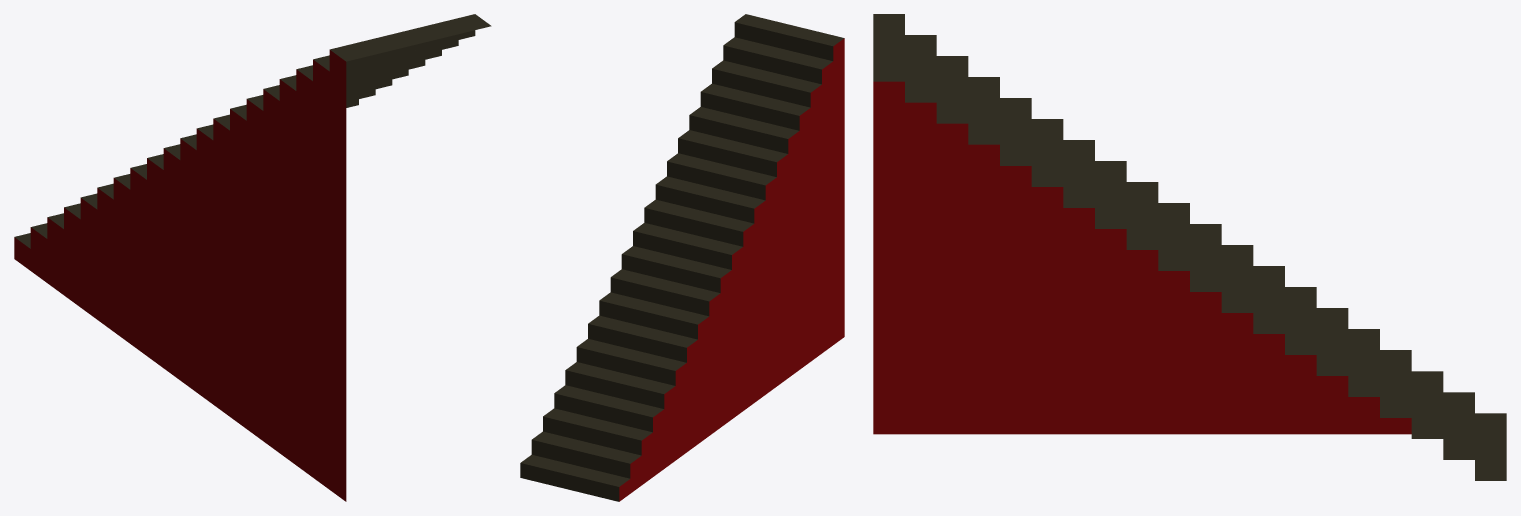
File: Stairs-Apartment_01.fbx
The picture shows the model from 3 angles, left to right: view 1: azimuth 30°, elevation 25°; view 2: azimuth 150°, elevation 25°; view 3: azimuth 270°, elevation 25°; orthographic projection. The views are drawn at different scales.
Parts seen in each view (by area): view 1: Stairs-Apartment_01; view 2: Stairs-Apartment_01; view 3: Stairs-Apartment_01.
Part boxes in pixels (x1=…): Stairs-Apartment_01: x1=14, y1=14, x2=491, y2=501; Stairs-Apartment_01: x1=520, y1=14, x2=844, y2=501; Stairs-Apartment_01: x1=873, y1=14, x2=1506, y2=480.
Size of the model in its own units: 1.87 by 5.4 by 7.38.
